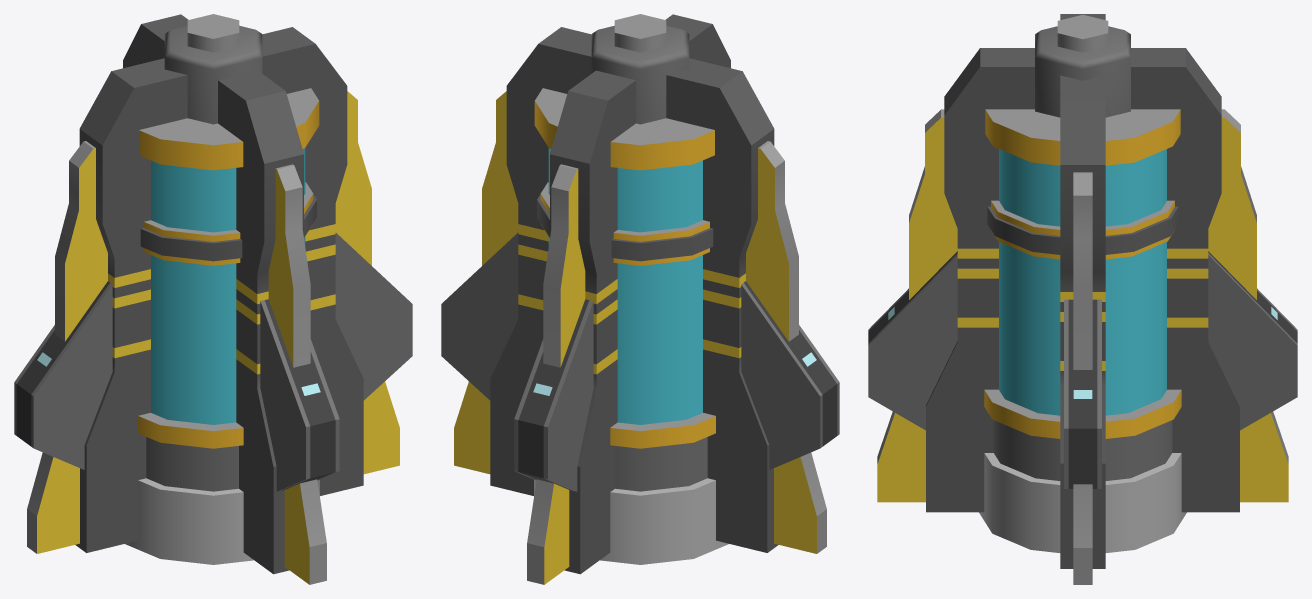
The model's file is antenna_004.fbx.
3 renders of one model, left to right at view 1: azimuth 30°, elevation 25°; view 2: azimuth 150°, elevation 25°; view 3: azimuth 270°, elevation 25°, orthographic.
Parts seen in each view (by area): view 1: antenna_004; view 2: antenna_004; view 3: antenna_004.
Boxes of the visible parts, left/top/right/bottom form: antenna_004: left=14, top=14, right=412, bottom=584; antenna_004: left=441, top=14, right=839, bottom=584; antenna_004: left=868, top=14, right=1297, bottom=584.
Bounding box in the file's own units: 410 × 410 × 511.
